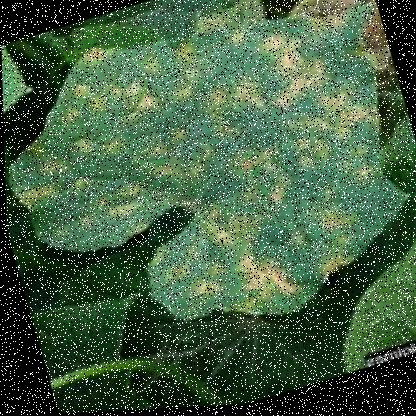DownyMildew: (172, 95, 406, 277), (159, 0, 391, 164), (2, 95, 209, 264), (141, 197, 341, 358)
